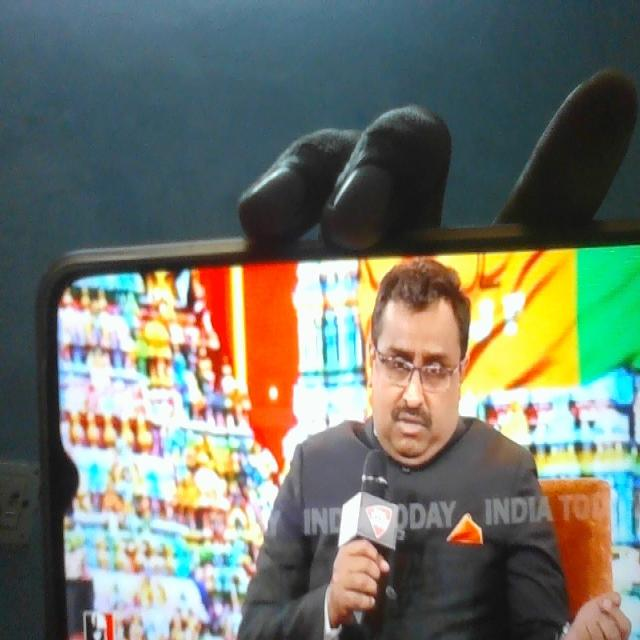fake: (351, 226, 480, 470)
